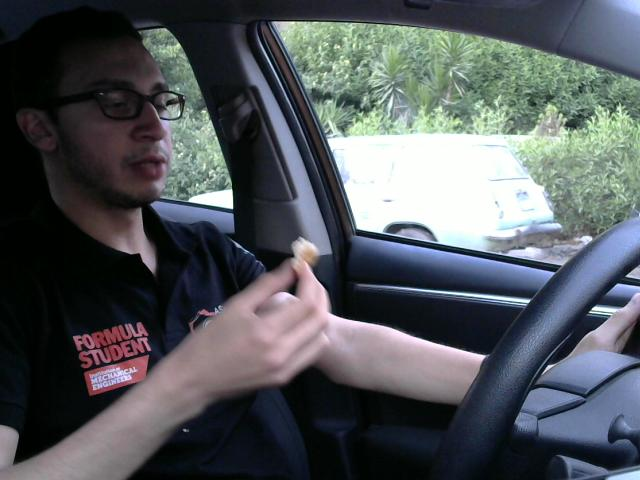Eating: (285, 231, 325, 283)
